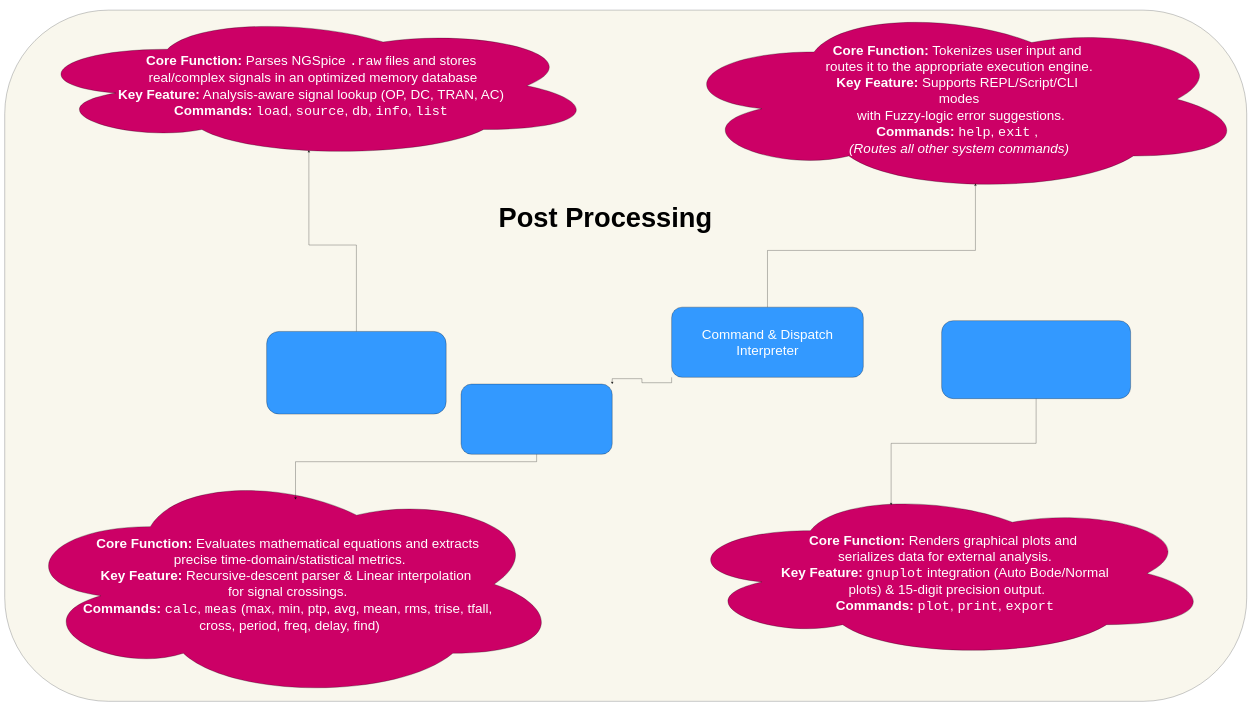
Some shapes in this 1254 by 706 pixel diagram are drawn without their labels. The shapes that lost their labels are listed below. From the top down, each one's centre as x and y in pixels, then its label:
At (356,372): "Data Ingestion & Storage Layer".
At (1036,359): "Visualization & Export Module".
At (536,419): "Waveform Analytics Engine".
